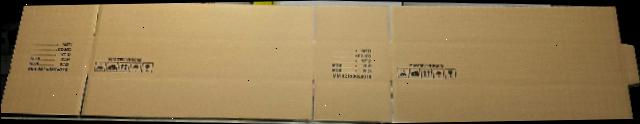box: (1, 2, 639, 123)
